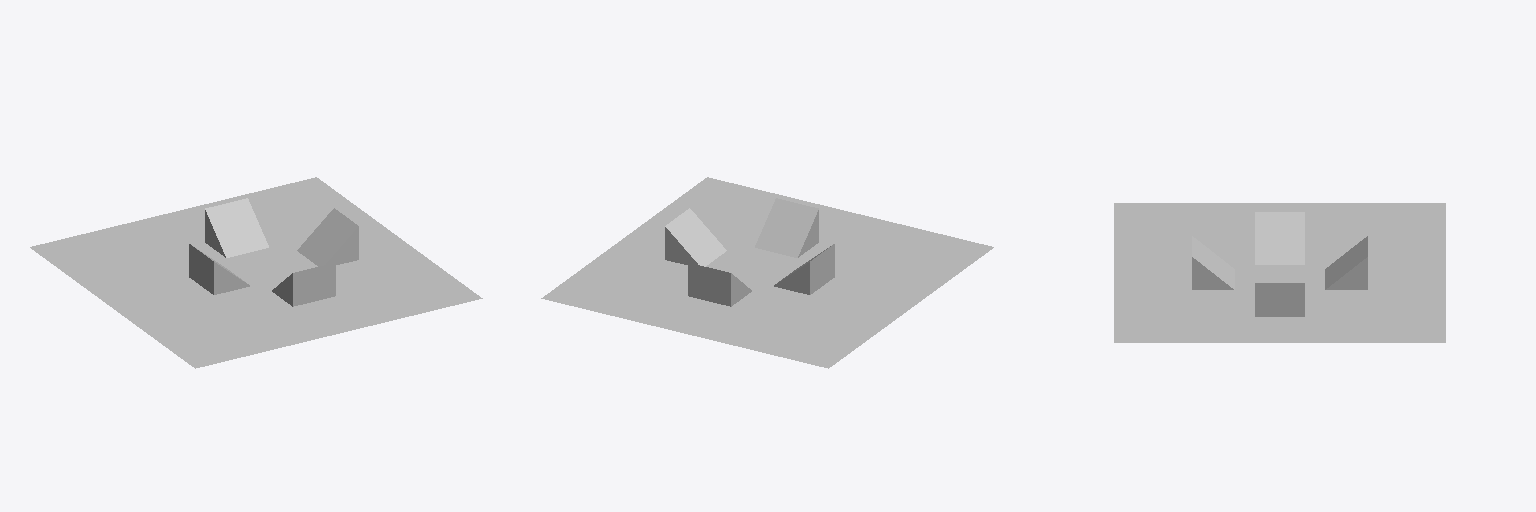
File: SlopeMap.obj
3 views of the same model, side by side, from view 1: azimuth 30°, elevation 25°; view 2: azimuth 150°, elevation 25°; view 3: azimuth 270°, elevation 25° (orthographic).
Visible parts, largest first — view 1: Plane; view 2: Plane; view 3: Plane.
Part boxes in pixels (bbox=[...]): Plane: bbox=[30, 177, 482, 368]; Plane: bbox=[541, 177, 993, 368]; Plane: bbox=[1114, 203, 1445, 342].
Bounding box in the file's own units: 40 × 4.5 × 40.